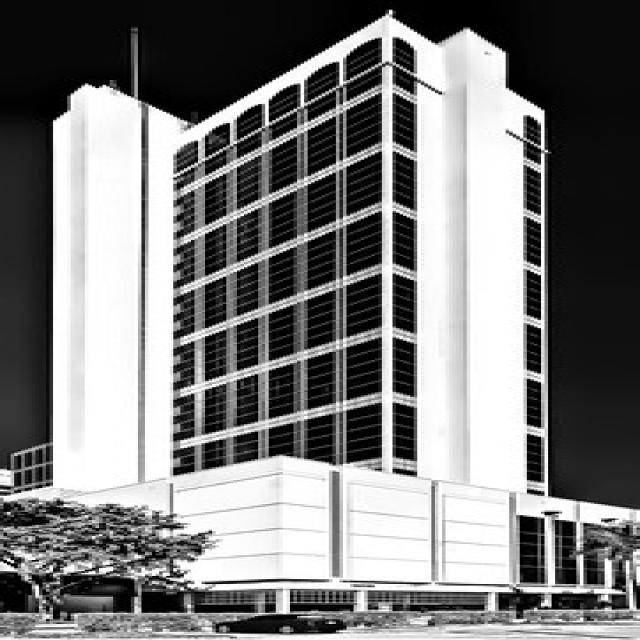building: (116, 11, 558, 610)
